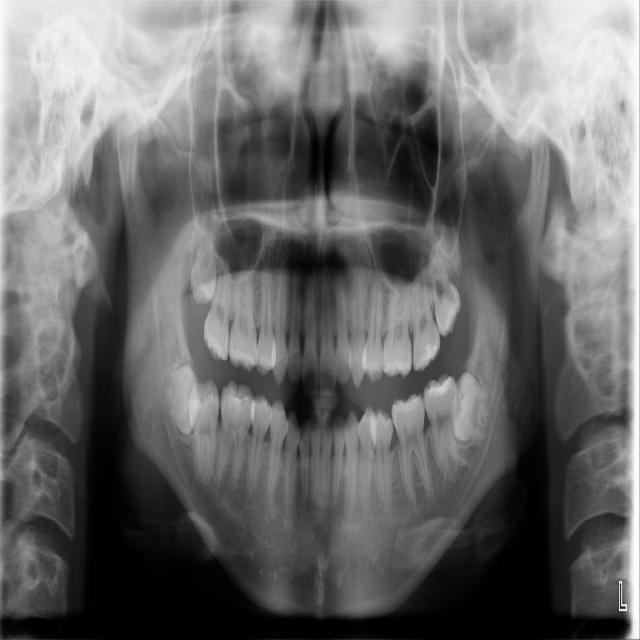Filling: (414, 343, 439, 368), (426, 375, 452, 396)
impacted tooth: (456, 374, 493, 441), (160, 365, 195, 434), (191, 210, 217, 302)
